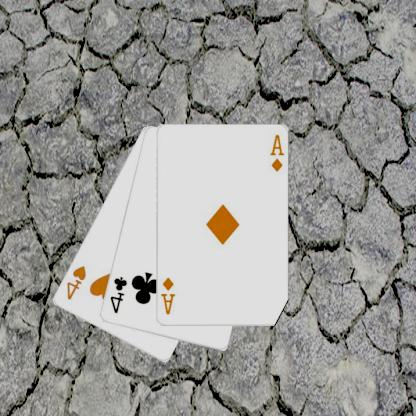4C: (109, 274, 130, 315)
4H: (65, 263, 89, 302)
AD: (160, 275, 178, 316), (268, 133, 286, 173)
